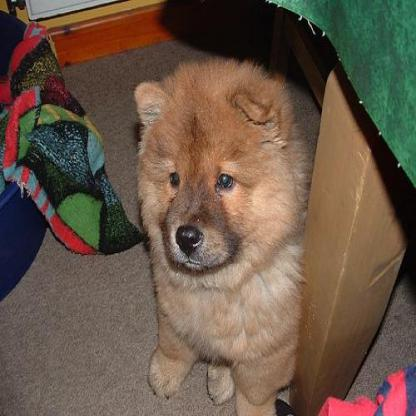chow: (130, 53, 316, 414)
